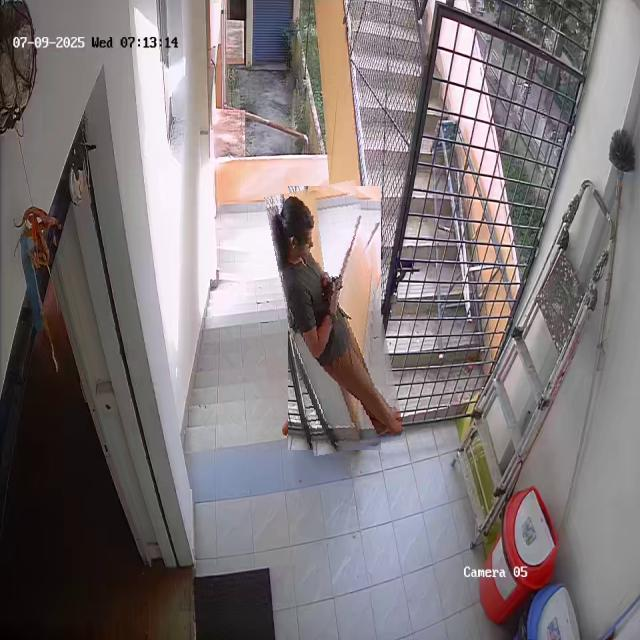person: (276, 183, 393, 453)
